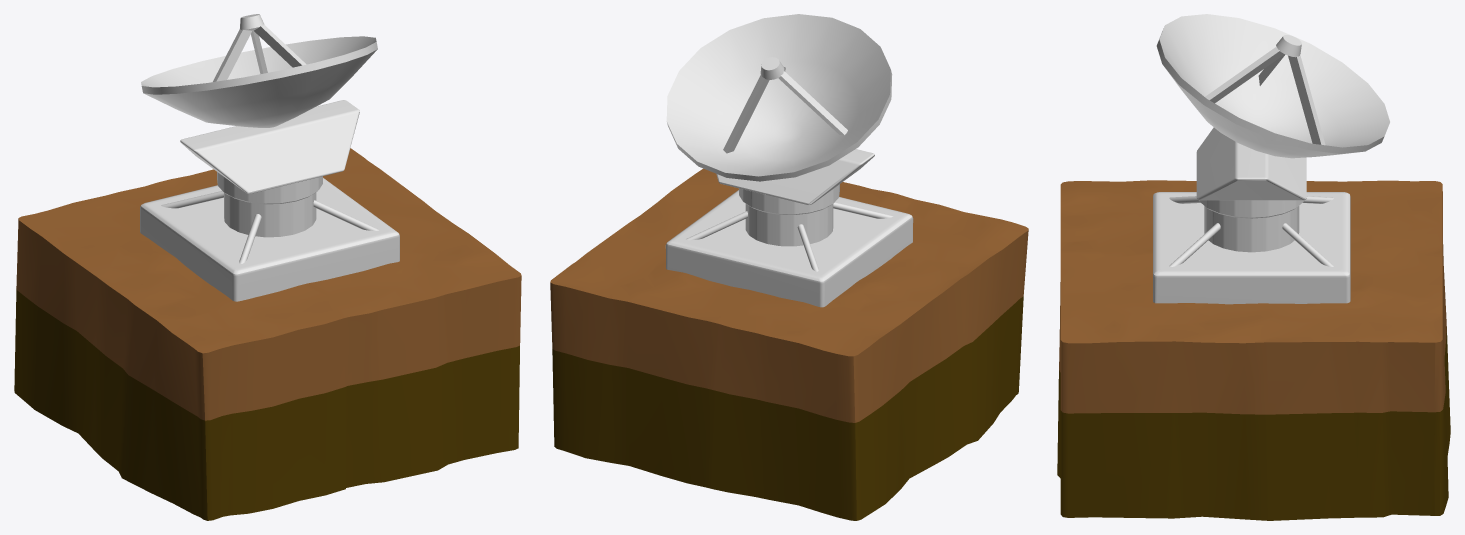
The model's file is dish.fbx.
3 renders of one model, left to right at view 1: azimuth 30°, elevation 25°; view 2: azimuth 150°, elevation 25°; view 3: azimuth 270°, elevation 25°, orthographic. The views are drawn at different scales.
Visible parts, largest first — view 1: polySurface22, polySurface20, polySurface25, polySurface17, polySurface16, polySurface23, polySurface26; view 2: polySurface22, polySurface25, polySurface20, polySurface16, polySurface17, polySurface27, polySurface23; view 3: polySurface22, polySurface25, polySurface20, polySurface17, polySurface16, polySurface27, polySurface26, polySurface28, polySurface29.
Boxes of the visible parts, box(x1,y1,x2,y2) form: polySurface22: box(14, 148, 521, 520); polySurface20: box(140, 178, 399, 301); polySurface25: box(141, 36, 377, 127); polySurface17: box(180, 100, 359, 193); polySurface16: box(217, 172, 322, 237); polySurface23: box(213, 29, 251, 81); polySurface26: box(254, 24, 306, 67); polySurface22: box(550, 168, 1028, 520); polySurface25: box(666, 14, 892, 181); polySurface20: box(665, 190, 913, 307); polySurface16: box(739, 184, 839, 246); polySurface17: box(716, 149, 874, 205); polySurface27: box(723, 74, 769, 153); polySurface23: box(778, 71, 847, 135); polySurface22: box(1057, 180, 1450, 520); polySurface25: box(1156, 14, 1389, 158); polySurface20: box(1153, 192, 1350, 304); polySurface17: box(1196, 127, 1306, 200); polySurface16: box(1199, 200, 1304, 252); polySurface27: box(1288, 55, 1325, 145); polySurface26: box(1205, 46, 1284, 103); polySurface28: box(1169, 223, 1220, 266); polySurface29: box(1282, 223, 1333, 266).
Bounding box in the file's own units: 20.78 × 22.94 × 20.34.
